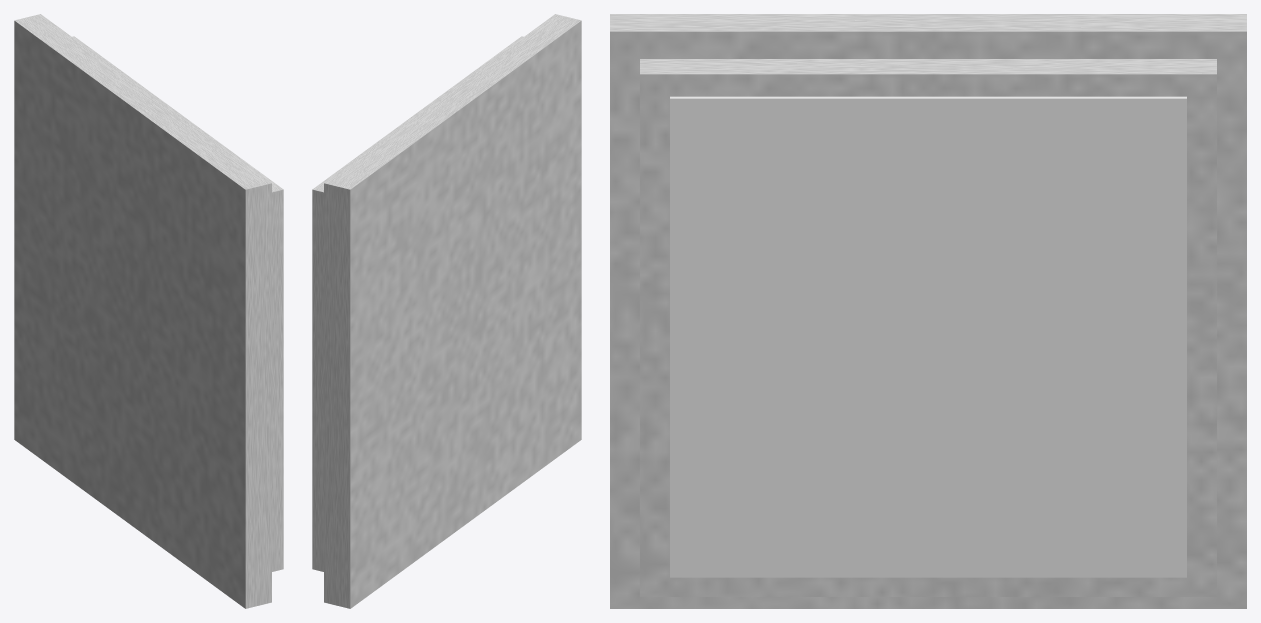
Rendered from squarestonewalllight.obj.
3 views of the same model, side by side, from view 1: azimuth 30°, elevation 25°; view 2: azimuth 150°, elevation 25°; view 3: azimuth 270°, elevation 25° (orthographic). The views are drawn at different scales.
Parts seen in each view (by area): view 1: Base, Metal; view 2: Base, Metal; view 3: Light0, Base, Metal.
Boxes of the visible parts, left/top/right/bottom form: Base: left=14, top=14, right=271, bottom=608; Metal: left=72, top=36, right=283, bottom=571; Base: left=324, top=14, right=581, bottom=608; Metal: left=312, top=36, right=523, bottom=571; Light0: left=670, top=96, right=1186, bottom=577; Base: left=610, top=14, right=1246, bottom=608; Metal: left=640, top=59, right=1216, bottom=596.
Size of the model in its own units: 0.07 by 0.53 by 0.53.
